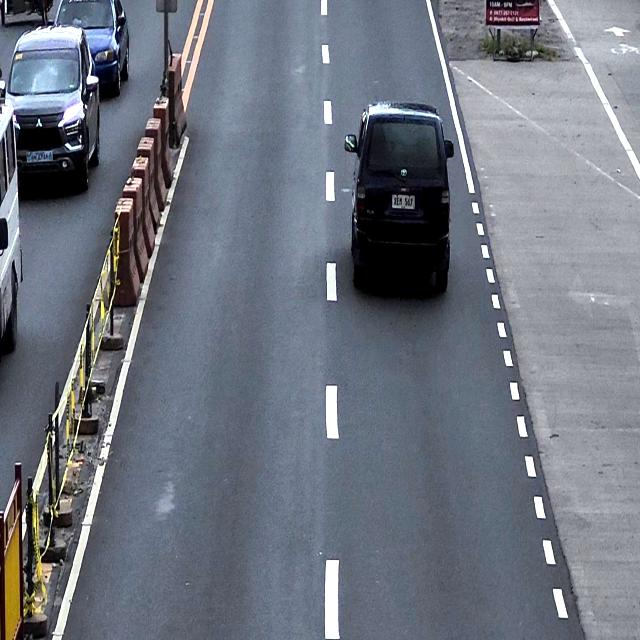Car: (342, 101, 456, 296), (6, 25, 102, 194), (53, 0, 129, 98), (0, 97, 24, 360)
License-Plate: (390, 192, 416, 210), (27, 148, 53, 165)
